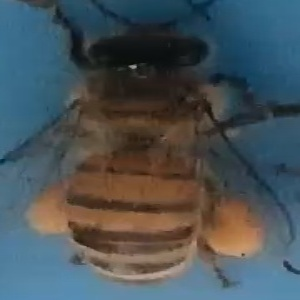bee: (8, 3, 295, 291)
